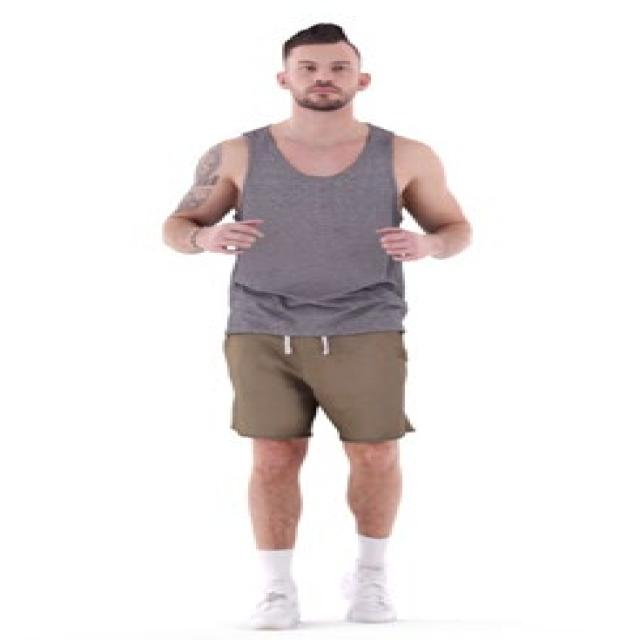running: (157, 22, 475, 635)
